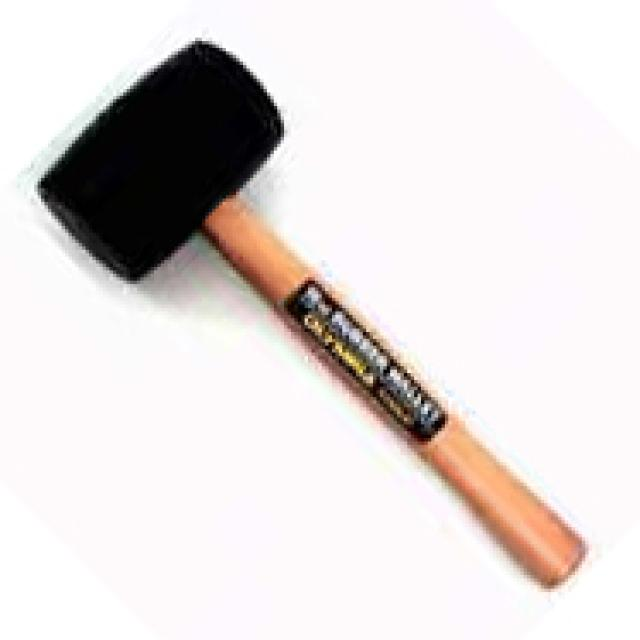hammer: (41, 2, 640, 607)
